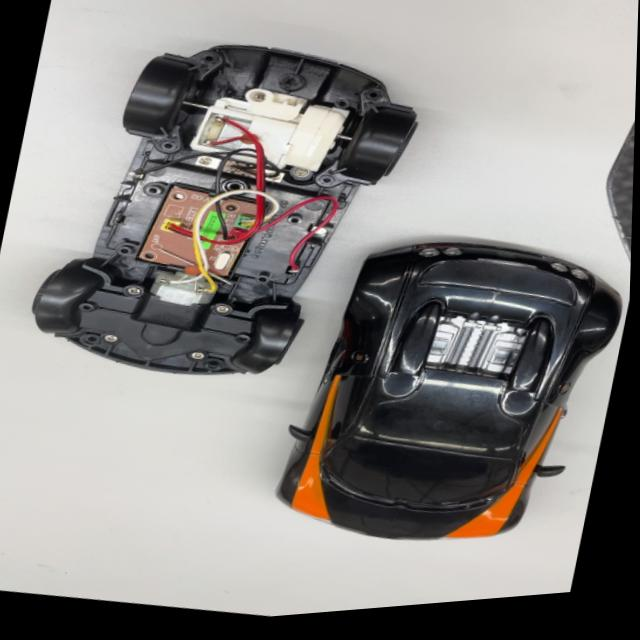Chassis: (19, 4, 434, 404)
motor_cover: (32, 246, 303, 376)
vehicle_body: (252, 208, 626, 586)
